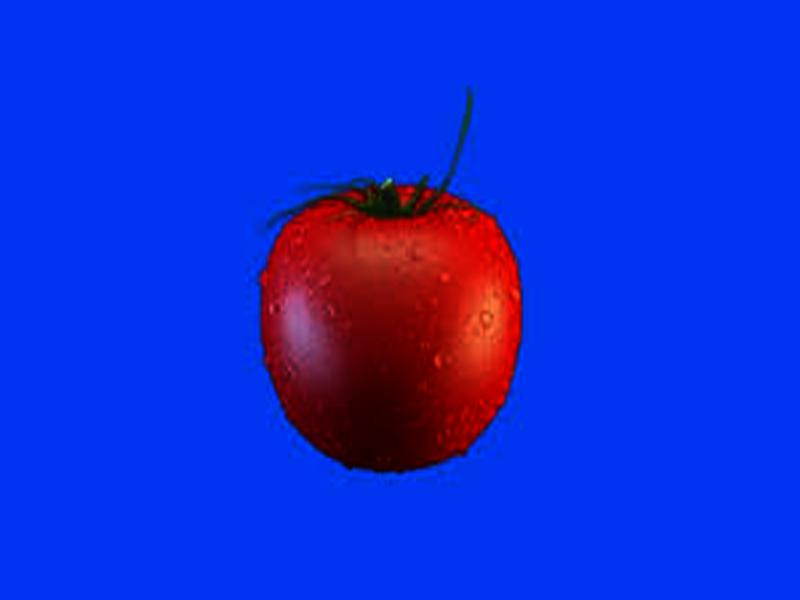Tomato: (258, 182, 522, 471)
